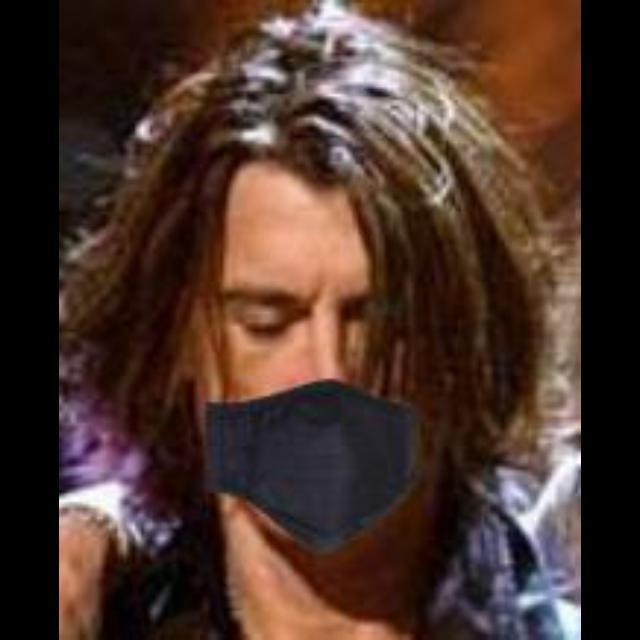suspicion: (181, 102, 521, 554)
